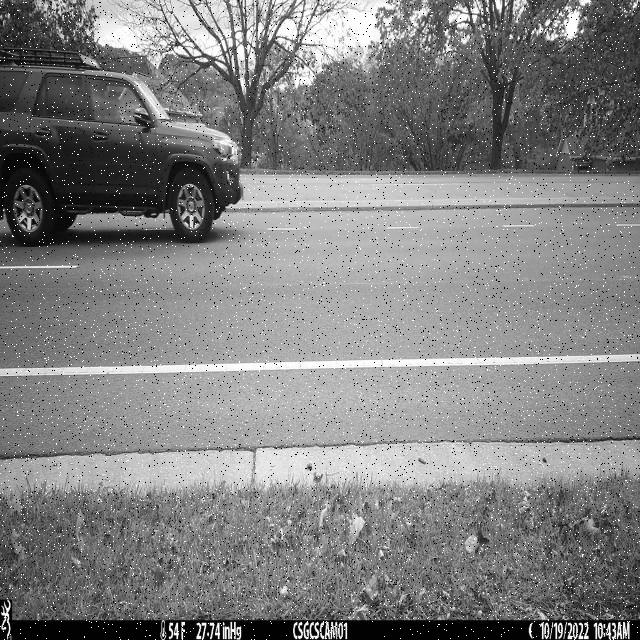SUV: (0, 47, 241, 247)
